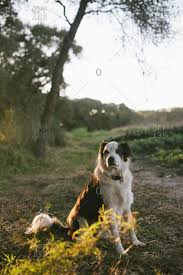dog_sitting: (25, 139, 146, 257)
